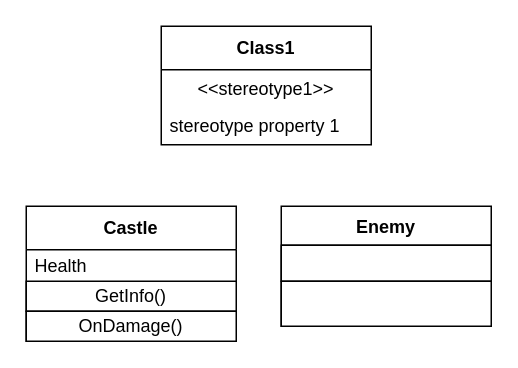
Some shapes in this 518 by 368 pixel diagram are drawn without their labels. The shapes that lost their labels are listed below. From the top down, each one's centre as x and y in pixels, then its label:
At (385,262): "Attack()".
At (385,303): "Trace()".
